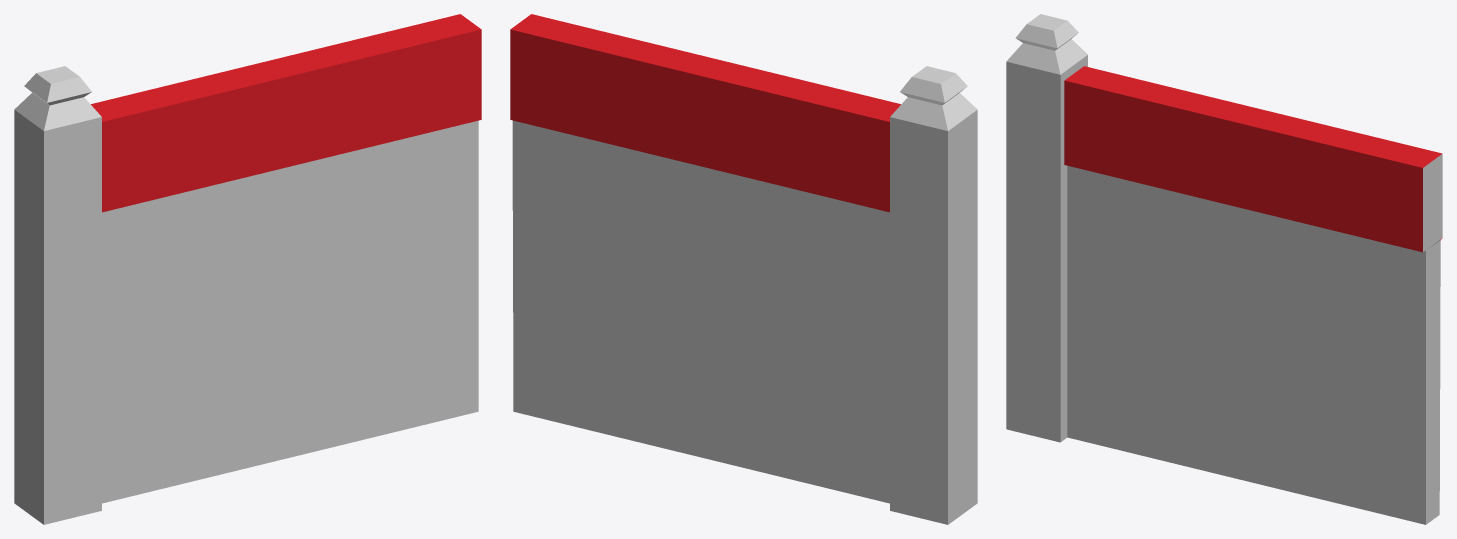
File: Fence1.fbx
3 views of the same model, side by side, from view 1: azimuth 30°, elevation 25°; view 2: azimuth 150°, elevation 25°; view 3: azimuth 330°, elevation 25° (orthographic). The views are drawn at different scales.
Visible parts, largest first — view 1: Fence1; view 2: Fence1; view 3: Fence1.
Boxes of the visible parts, <box> form: Fence1: <box>14,14,481,524</box>; Fence1: <box>510,14,977,524</box>; Fence1: <box>1006,14,1442,524</box>.
Size of the model in its own units: 305 by 285 by 35.33.
